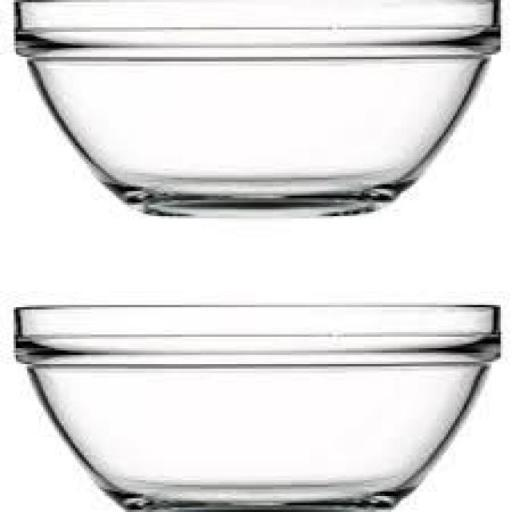glass: (0, 0, 512, 243), (13, 301, 504, 507)
